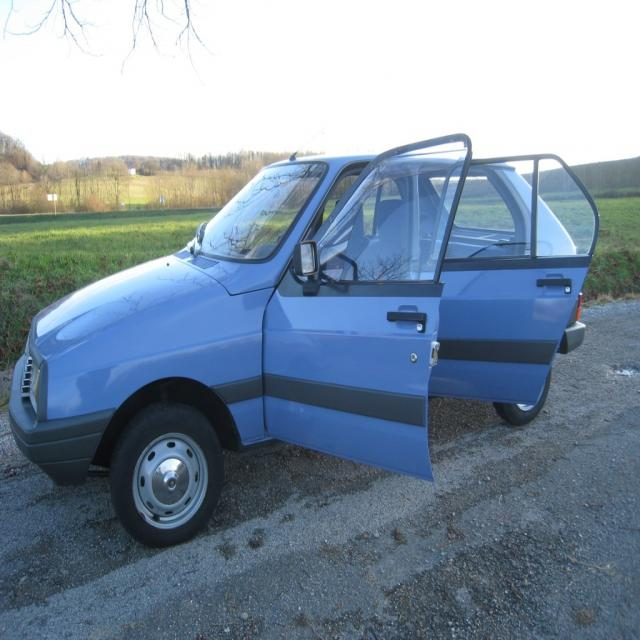other: (5, 133, 606, 549)
